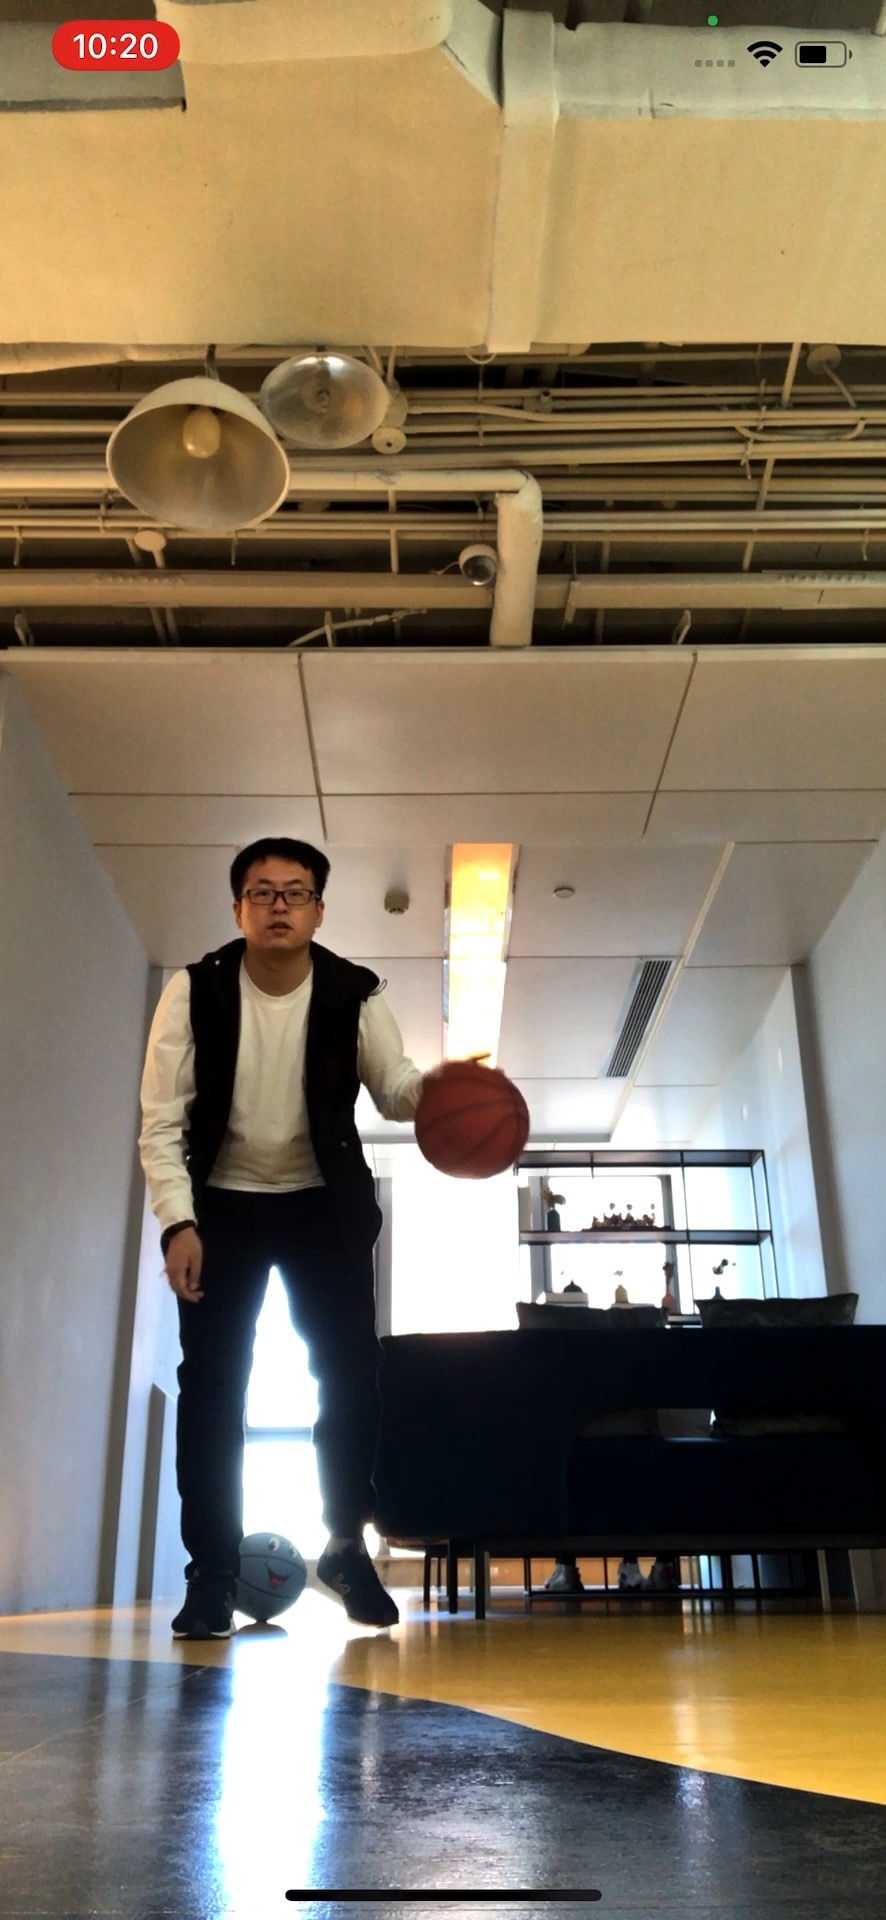ball: (414, 1060, 534, 1182)
